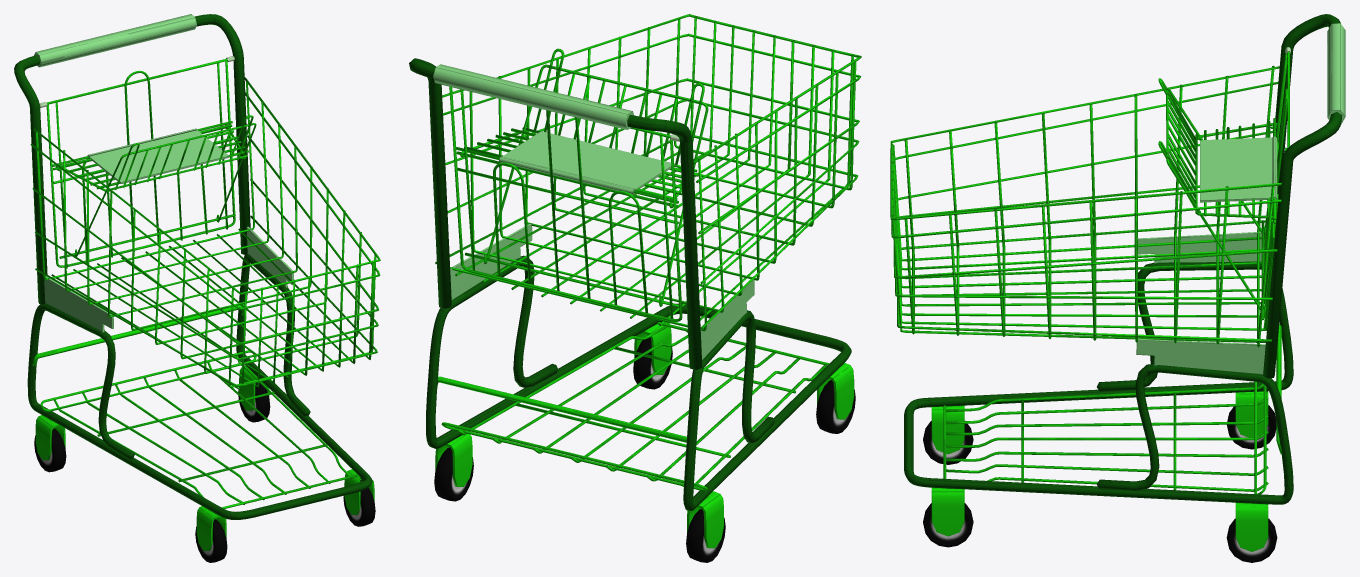
Rendered from cart.gltf.
3 renders of one model, left to right at view 1: azimuth 30°, elevation 25°; view 2: azimuth 150°, elevation 25°; view 3: azimuth 270°, elevation 25°, orthographic. The views are drawn at different scales.
Visible parts, largest first — view 1: Shopping_Cart; view 2: Shopping_Cart; view 3: Shopping_Cart.
Part boxes in pixels (bbox=[...]): Shopping_Cart: bbox=[14, 14, 380, 562]; Shopping_Cart: bbox=[409, 14, 861, 562]; Shopping_Cart: bbox=[890, 14, 1345, 562].
Bounding box in the file's own units: 315 × 526 × 497.
1 material, 1 textured.
